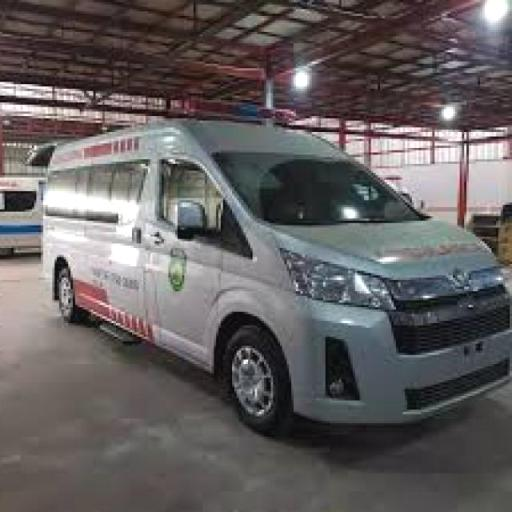Police car: (46, 115, 512, 430)
